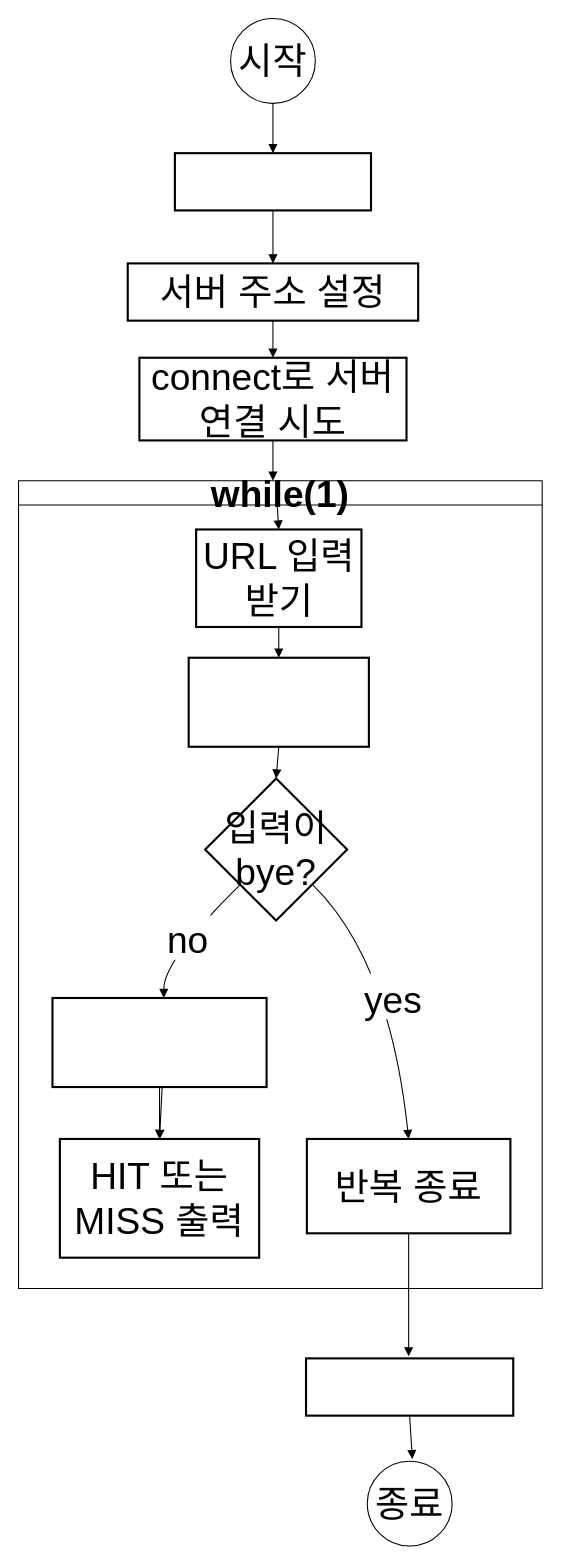
Some shapes in this 561 by 1565 pixel diagram are drawn without their labels. The shapes that lost their labels are listed below. From the top down, each one's box as (x1, y1, x2, y2) in pixels, then its label:
(173, 152, 372, 211): 소켓 생성
(187, 656, 369, 747): 서버로 URL 전송
(51, 996, 267, 1088): 서버로부터 응답 받기
(304, 1357, 514, 1416): 소켓 닫기
